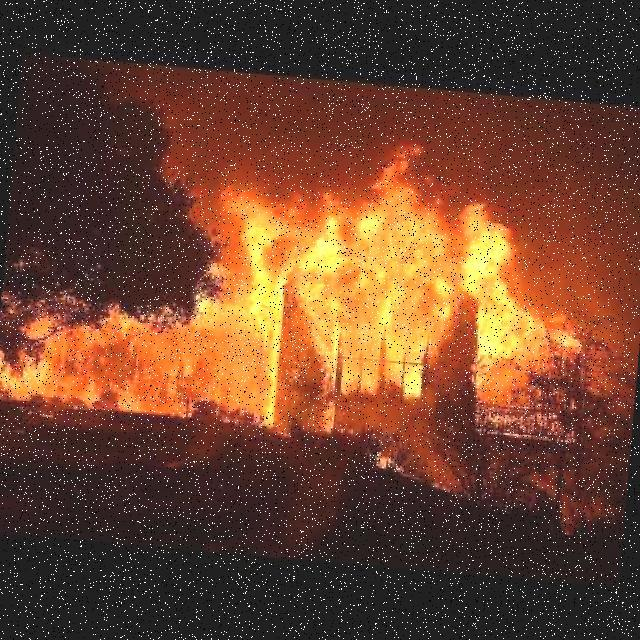Fire: (0, 124, 594, 475)
